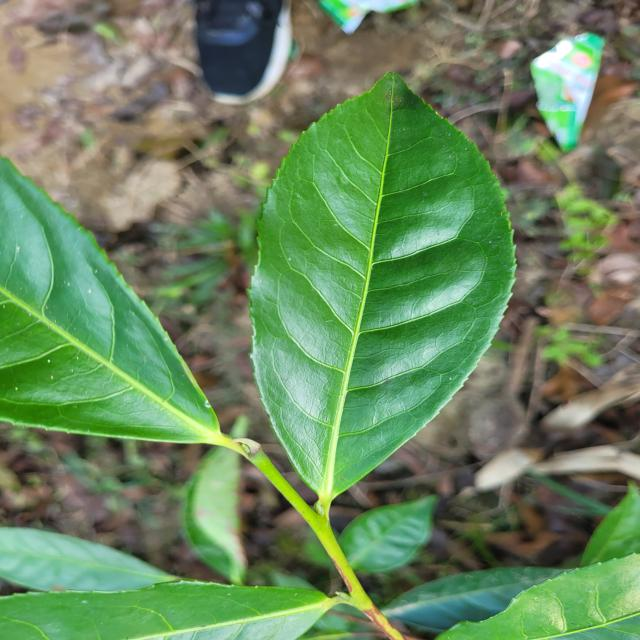Category D(7+ days, Not for Tea): (231, 56, 533, 514)
